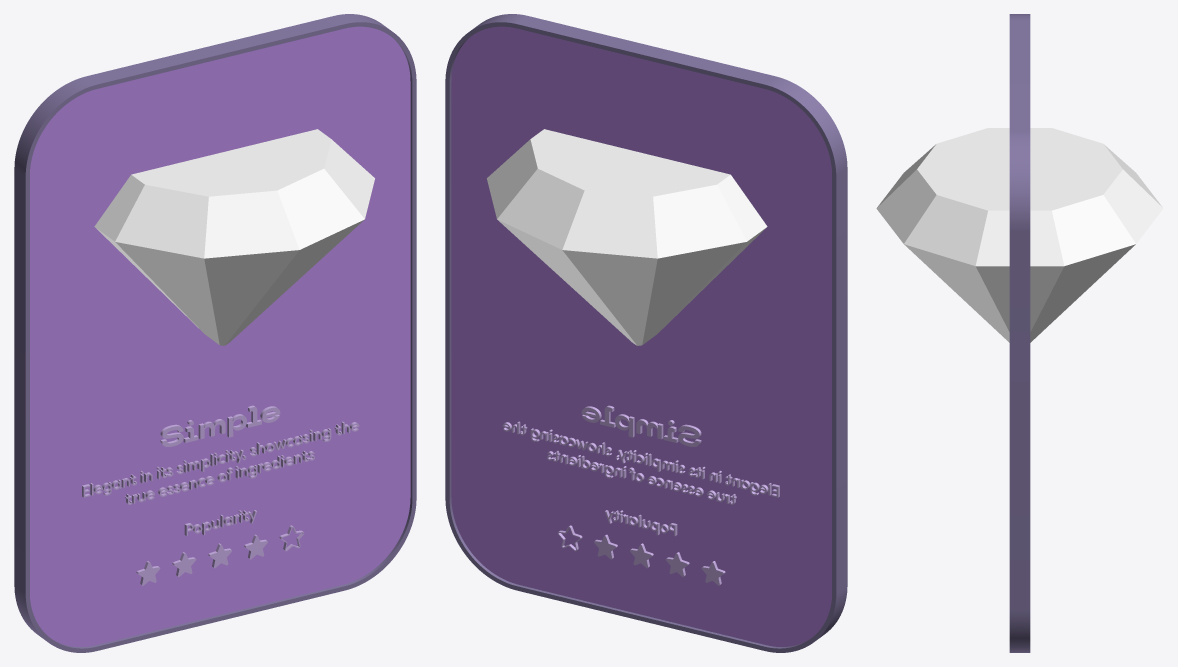
File: simple.gltf
3 views of the same model, side by side, from view 1: azimuth 30°, elevation 25°; view 2: azimuth 150°, elevation 25°; view 3: azimuth 270°, elevation 25° (orthographic). The views are drawn at different scales.
Parts seen in each view (by area): view 1: Mesh_2709.001, Jewel_03_Circle.001, Mesh_2372.002, Mesh_1768.002, Mesh_2313.002, Mesh_2632.001; view 2: Mesh_2709.001, Jewel_03_Circle.001, Mesh_2372.002, Mesh_1768.002, Mesh_2313.002, Mesh_2632.001; view 3: Jewel_03_Circle.001, Mesh_2372.002.
Part boxes in pixels (left/top/right/bottom): Mesh_2709.001: left=30, top=26, right=410, bottom=646; Jewel_03_Circle.001: left=94, top=129, right=374, bottom=345; Mesh_2372.002: left=14, top=14, right=416, bottom=652; Mesh_1768.002: left=82, top=421, right=359, bottom=536; Mesh_2313.002: left=160, top=405, right=280, bottom=446; Mesh_2632.001: left=136, top=525, right=304, bottom=585; Mesh_2709.001: left=451, top=26, right=831, bottom=646; Jewel_03_Circle.001: left=487, top=129, right=767, bottom=345; Mesh_2372.002: left=445, top=14, right=847, bottom=652; Mesh_1768.002: left=502, top=421, right=779, bottom=536; Mesh_2313.002: left=581, top=405, right=701, bottom=446; Mesh_2632.001: left=557, top=525, right=725, bottom=585; Jewel_03_Circle.001: left=876, top=128, right=1163, bottom=342; Mesh_2372.002: left=1009, top=14, right=1030, bottom=652.
Size of the model in its own units: 0.3625 by 0.5019 by 0.2537.
Materials: 28 (25 with a texture image).
